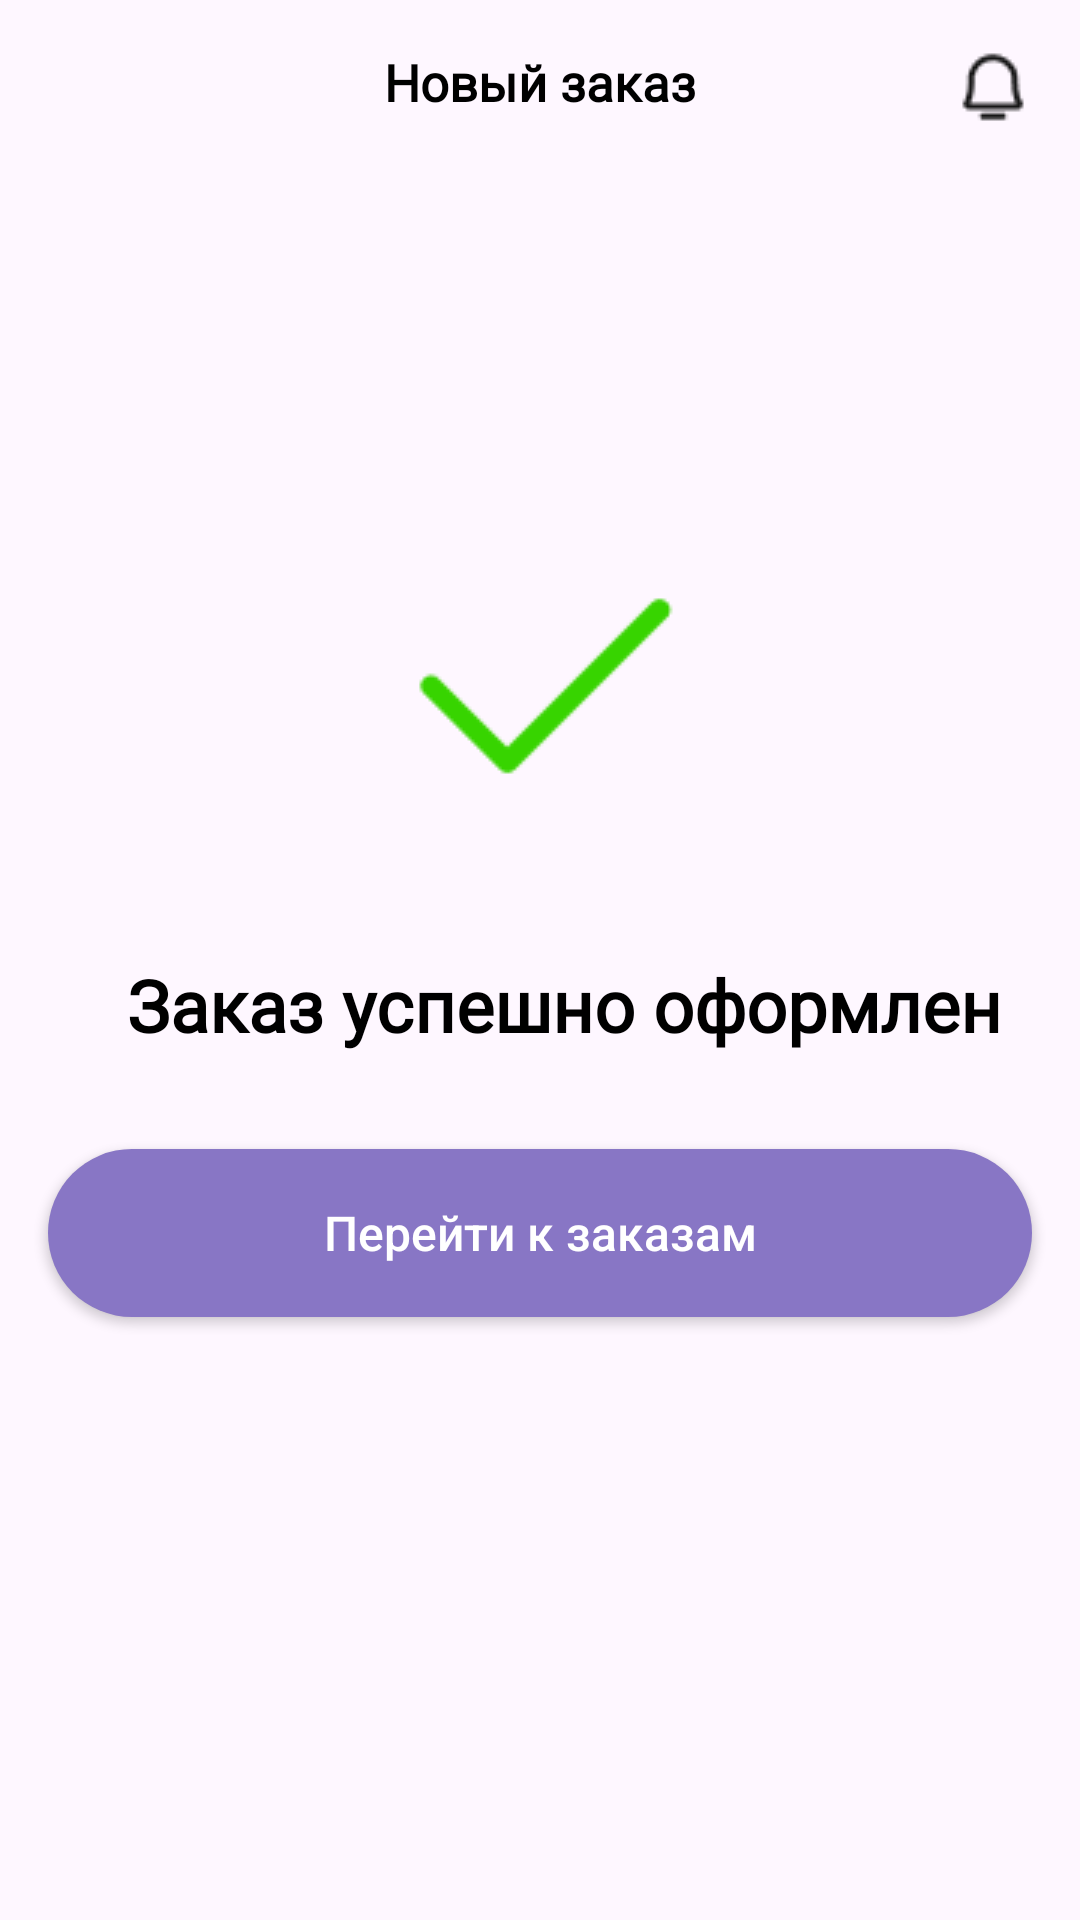

Screen size 1080*1920. Icon name, then its box in pixels as bbox=[x1, y1, x2, y2]:
bell: bbox=[962, 53, 1024, 121]
check: bbox=[419, 598, 673, 774]
